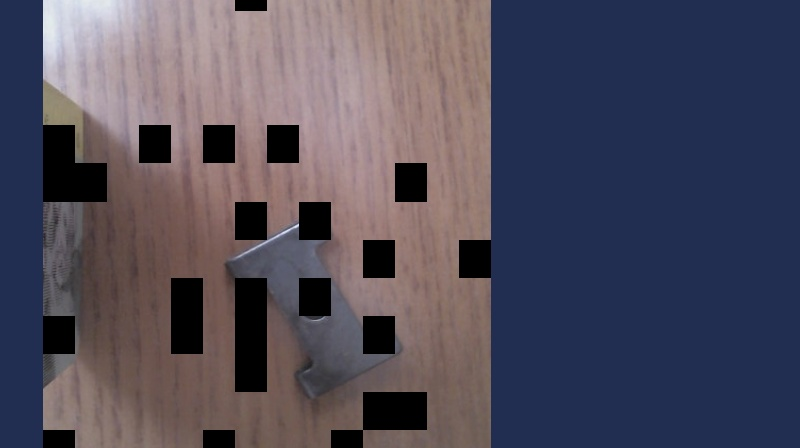O002: (219, 206, 406, 404)
